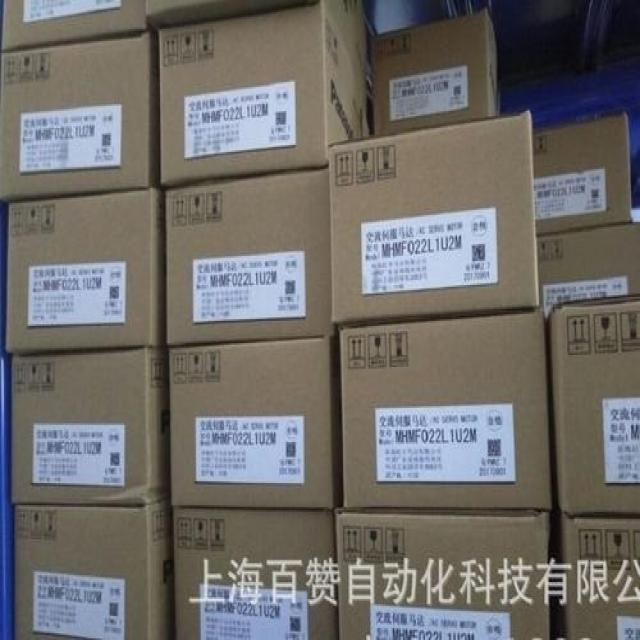box: (339, 307, 554, 515), (329, 113, 539, 324), (160, 5, 367, 189), (165, 167, 337, 348), (166, 338, 342, 509), (335, 509, 556, 640), (0, 32, 160, 201), (5, 189, 166, 355), (9, 346, 170, 507), (12, 500, 174, 640), (173, 507, 340, 640), (547, 295, 640, 515), (143, 0, 365, 73), (372, 12, 502, 135), (531, 109, 632, 237), (554, 512, 640, 640), (535, 220, 640, 321)
